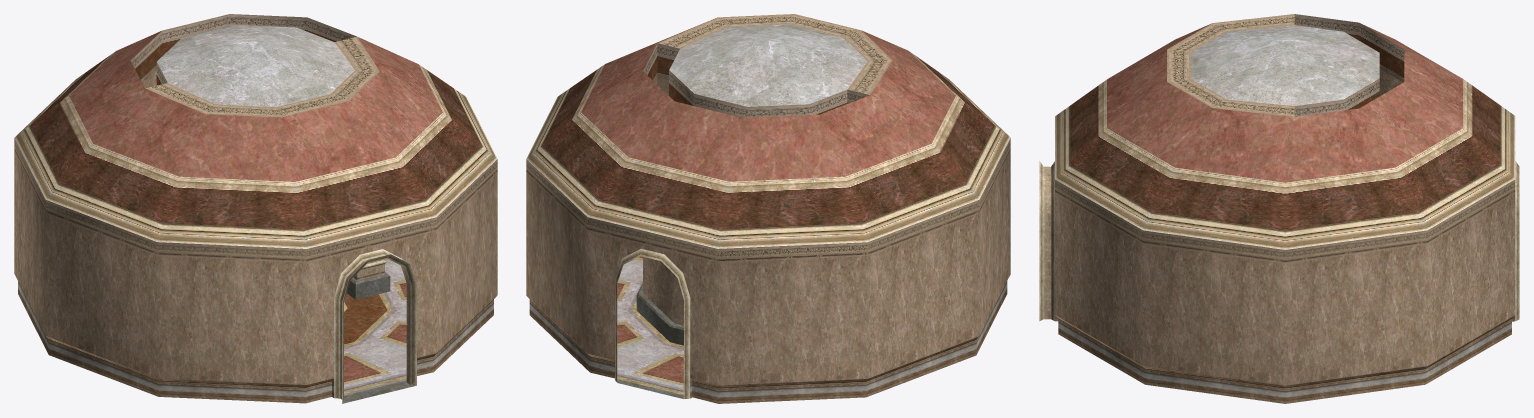
Rendered from thm_nboo_thed_theed_palace_r35_mesh_r35.fbx.
The picture shows the model from 3 angles, left to right: view 1: azimuth 30°, elevation 25°; view 2: azimuth 150°, elevation 25°; view 3: azimuth 270°, elevation 25°; orthographic projection.
Parts seen in each view (by area): view 1: mesh_node; view 2: mesh_node; view 3: mesh_node.
Boxes of the visible parts, x1,y1,x2,y2 form: mesh_node: [14, 14, 497, 403]; mesh_node: [526, 14, 1010, 403]; mesh_node: [1039, 14, 1519, 403].
Bounding box in the file's own units: 22.16 × 13.24 × 21.98.
